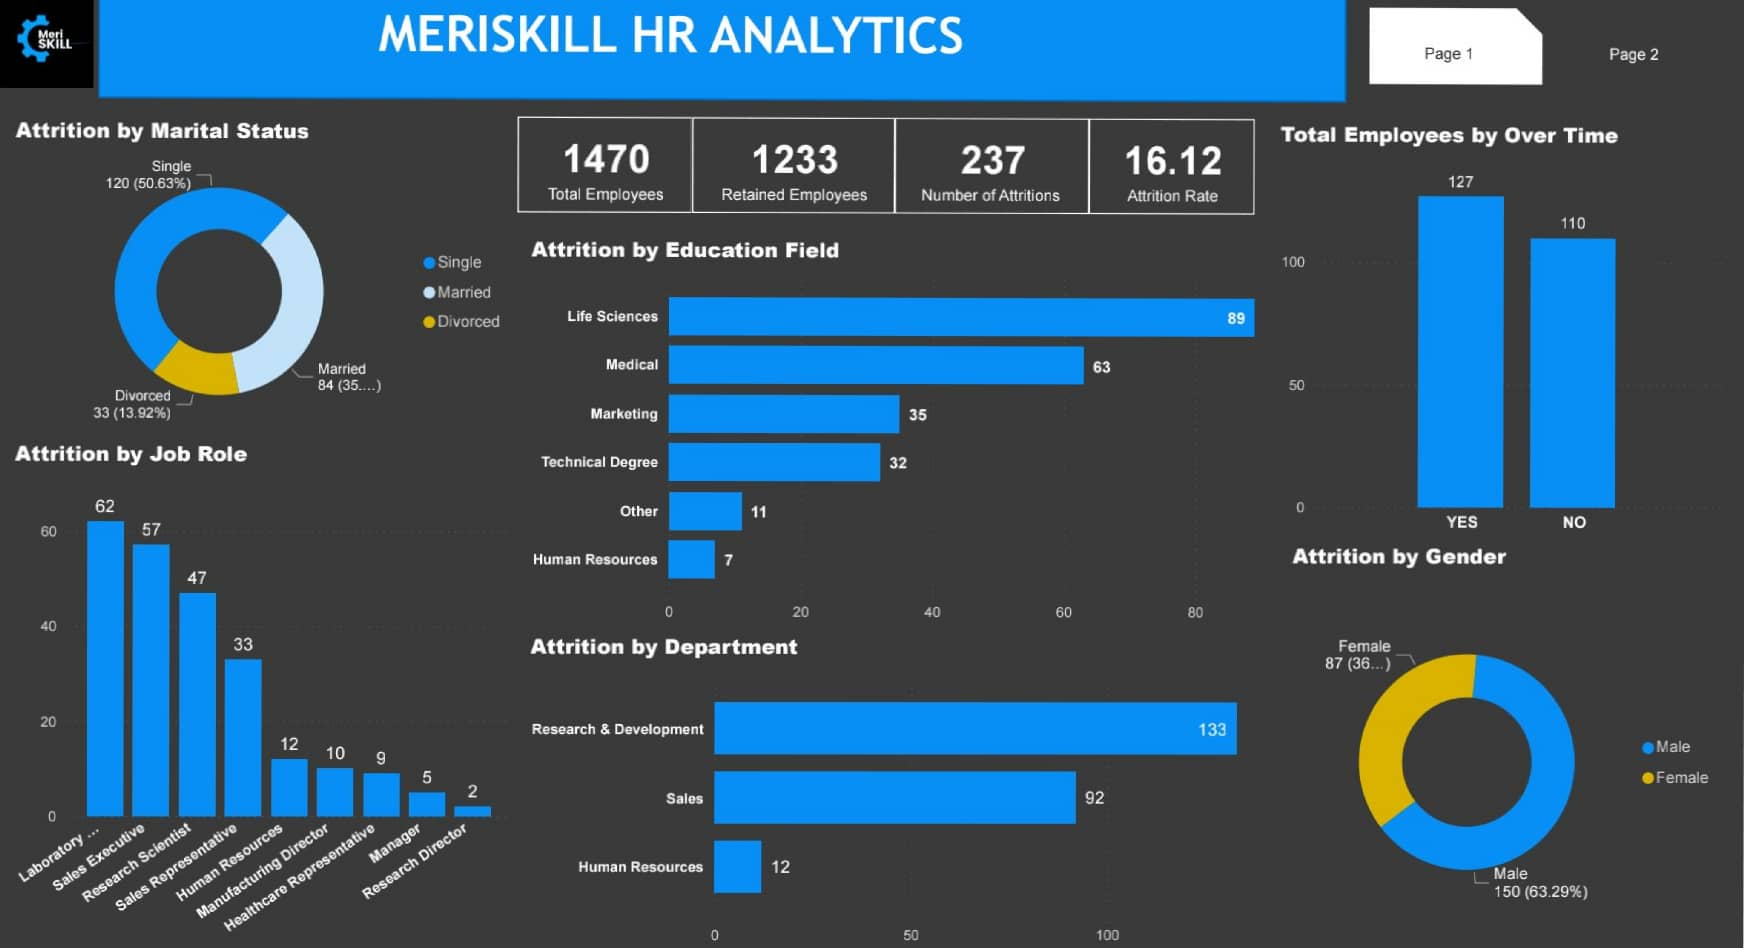

The page's visual inventory and layout, read from the dashboard file:
{"tool":"powerbi","page":{"name":"Page 1","canvas":[1480,820],"ordinal":0},"visuals":[{"type":"columnChart","title":"Total Employees by Over Time","fields":{"Category":["HR_Employee_Table.OverTime"],"Y":["HR_Employee_Table.Total Attrition"]},"box":[1081,111.2,384.3,358.1],"z":0},{"type":"card","fields":{"Values":["HR_Employee_Table.Total Number of Employees"]},"box":[442.2,110.5,146.8,80.8],"z":1000,"group":"g2"},{"type":"donutChart","title":"Attrition by Gender","fields":{"Category":["HR_Employee_Table.Gender"],"Y":["HR_Employee_Table.Total Attrition"]},"box":[1092.3,468.6,372.9,351.4],"z":1000},{"type":"shape","title":"MERI","box":[90.4,0,1051.1,96.5],"z":2000,"group":"g1"},{"type":"donutChart","title":"Attrition by Marital Status","fields":{"Category":["HR_Employee_Table.MaritalStatus"],"Y":["HR_Employee_Table.Total Attrition"]},"box":[16.5,110.5,425.7,273.9],"z":2000},{"type":"image","box":[0,0,90.4,96.5],"z":3000,"group":"g1"},{"type":"barChart","title":"Attrition by Department","fields":{"Category":["HR_Employee_Table.Department"],"Y":["HR_Employee_Table.Total Attrition"]},"box":[448.8,546.1,640.2,273.9],"z":3000},{"type":"textbox","box":[273.1,0,596.9,96.5],"z":4000,"group":"g1"},{"type":"barChart","title":"Attrition by Education Field","fields":{"Category":["HR_Employee_Table.EducationField"],"Y":["HR_Employee_Table.Total Attrition"]},"box":[448.8,209.5,633.6,336.6],"z":4000},{"type":"card","fields":{"Values":["Count(HR_Employee_Table.EmployeeNumber)"]},"box":[760.6,110.5,163.3,80.8],"z":5000,"group":"g2"},{"type":"columnChart","title":"Attrition by Job Role","fields":{"Category":["HR_Employee_Table.JobRole"],"Y":["HR_Employee_Table.Total Attrition"]},"box":[16.5,384.4,425.7,435.6],"z":5000},{"type":"group","id":"g1","title":"Group 1","box":[0,0,1141.5,96.5],"z":6000,"group":"g3"},{"type":"group","id":"g2","title":"Group 2","box":[442.2,110.5,622,80.8],"z":6000},{"type":"card","fields":{"Values":["HR_Employee_Table.Attrition Rate"]},"box":[924,110.5,140.2,80.8],"z":6000,"group":"g2"},{"type":"group","id":"g3","title":"Group 3","box":[0,0,1465.3,96.5],"z":7000},{"type":"card","fields":{"Values":["Count(HR_Employee_Table.EmployeeNumber)"]},"box":[589,110.5,171.6,80.8],"z":7000,"group":"g2"},{"type":"pageNavigator","box":[1161.1,16.4,304.2,65.4],"z":7001,"group":"g3"}]}

Visuals, with their boxes in screenshot pixels (x1, y1, x2, y2), scaled from the page's 1480x820 canvas onto the 1744x948 screenshot:
"Total Employees by Over Time" columnChart: [1274,129,1727,543]
card - HR_Employee_Table.Total Number of Employees: [521,128,694,221]
"Attrition by Gender" donutChart: [1287,542,1727,947]
"MERI" shape: [107,0,1345,112]
"Attrition by Marital Status" donutChart: [19,128,521,444]
image: [0,0,107,112]
"Attrition by Department" barChart: [529,631,1283,947]
textbox: [322,0,1025,112]
"Attrition by Education Field" barChart: [529,242,1275,631]
card - Count(HR_Employee_Table.EmployeeNumber): [896,128,1089,221]
"Attrition by Job Role" columnChart: [19,444,521,947]
"Group 1" group: [0,0,1345,112]
"Group 2" group: [521,128,1254,221]
card - HR_Employee_Table.Attrition Rate: [1089,128,1254,221]
"Group 3" group: [0,0,1727,112]
card - Count(HR_Employee_Table.EmployeeNumber): [694,128,896,221]
pageNavigator: [1368,19,1727,95]
